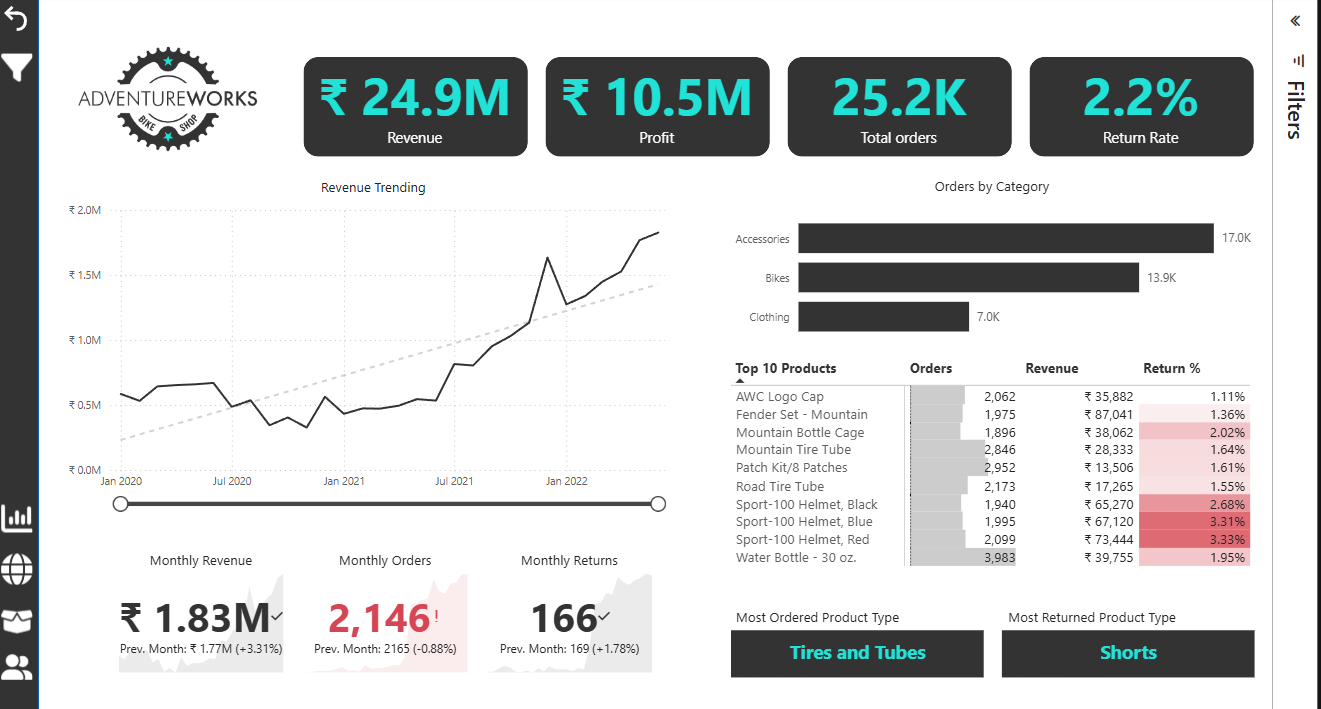

This screenshot's page, from the dashboard's own definition file:
{"tool":"powerbi","page":{"name":"Exec Dashboard","canvas":[1280,720],"ordinal":0},"visuals":[{"type":"image","title":"AW logo","box":[53.8,43.8,241.2,120],"z":0},{"type":"group","id":"g1","title":"Revenue","box":[305,59.4,233.8,102.5],"z":0,"group":"g3"},{"type":"shape","box":[310,61.9,225,100],"z":0,"group":"g1"},{"type":"shape","box":[552.5,61.9,225,100],"z":0,"group":"g5"},{"type":"shape","box":[795,61.9,225,100],"z":0,"group":"g4"},{"type":"shape","box":[1037.5,61.9,225,100],"z":0,"group":"g2"},{"type":"actionButton","box":[2.1,652.7,45.2,39.9],"z":0,"group":"g6"},{"type":"shape","title":"Nav Bcakground","box":[0,0,45,720],"z":1000},{"type":"card","fields":{"Values":["Measure Table.Total Revenue"]},"box":[305,59.4,233.8,98.8],"z":1000,"group":"g1"},{"type":"card","fields":{"Values":["Measure Table.Total Profit"]},"box":[547.5,59.4,233.8,98.8],"z":1000,"group":"g5"},{"type":"card","fields":{"Values":["Measure Table.Total orders"]},"box":[790,59.4,233.8,98.8],"z":1000,"group":"g4"},{"type":"group","id":"g2","title":"Return rate","box":[1032.5,59.4,233.8,102.5],"z":1000,"group":"g3"},{"type":"card","fields":{"Values":["Measure Table.Return Rate"]},"box":[1032.5,59.4,233.8,98.8],"z":1000,"group":"g2"},{"type":"actionButton","box":[2.1,607.5,45.2,39.9],"z":1000,"group":"g6"},{"type":"group","id":"g3","title":"Cards","box":[305,59.4,961.2,102.5],"z":2000},{"type":"group","id":"g4","title":"Total orders","box":[790,59.4,233.8,102.5],"z":2000,"group":"g3"},{"type":"actionButton","box":[2.1,556,45.2,39.9],"z":2000,"group":"g6"},{"type":"group","id":"g5","title":"Total Profit","box":[547.5,59.4,233.8,102.5],"z":3000,"group":"g3"},{"type":"lineChart","title":"Revenue Trending","fields":{"Y":["Measure Table.Total Revenue"],"Category":["Calendar Lookup.Year","Calendar Lookup.Start of Quarter.Variation.Date Hierarchy.Quarter","Calendar Lookup.Start of Month"]},"box":[68.8,182.5,622.5,337.5],"z":3000},{"type":"actionButton","box":[2.1,504.5,45.2,39.9],"z":3000,"group":"g6"},{"type":"kpi","title":"Monthly Revenue","fields":{"Indicator":["Measure Table.Total Revenue"],"TrendLine":["Calendar Lookup.Start of Month"],"Goal":["Measure Table.Previous Month Revenue"]},"box":[119.5,556.4,175,127.5],"z":4000},{"type":"kpi","title":"Monthly Orders","fields":{"TrendLine":["Calendar Lookup.Start of Month"],"Goal":["Measure Table.Previous Month Orders"],"Indicator":["Measure Table.Total orders"]},"box":[304.5,556.4,175,127.5],"z":5000},{"type":"kpi","title":"Monthly Returns","fields":{"TrendLine":["Calendar Lookup.Start of Month"],"Indicator":["Measure Table.Total returns"],"Goal":["Measure Table.Previous Month Returns"]},"box":[489.5,556.4,175,127.5],"z":6000},{"type":"clusteredBarChart","title":"Orders by Category","fields":{"Category":["Product Categories Lookup.CategoryName"],"Y":["Measure Table.Total orders"]},"box":[732.5,182.2,533.7,177.5],"z":7000},{"type":"pivotTable","fields":{"Rows":["Product Lookup.ProductName"],"Values":["Measure Table.Total orders","Measure Table.Total Revenue","Measure Table.Return Rate"]},"box":[732.5,359.8,533.7,229.6],"z":8000},{"type":"card","fields":{"Values":["Min(Product Subcategories Lookup.SubcategoryName)"]},"box":[738.5,636.7,253.3,47.3],"z":9000},{"type":"textbox","box":[738.5,608.3,184.6,29.6],"z":10000},{"type":"textbox","box":[1010.7,608.3,184.6,29.6],"z":11000},{"type":"card","fields":{"Values":["Min(Product Subcategories Lookup.SubcategoryName)"]},"box":[1009.5,636.7,253.3,47.3],"z":12000},{"type":"actionButton","box":[4.2,5.3,35.7,34.7],"z":13000},{"type":"group","id":"g6","title":"Navigation buttons","box":[2.1,504.5,45.2,188.1],"z":14000},{"type":"actionButton","box":[3.2,52.6,45.2,39.9],"z":15000}]}

Visuals, with their boxes on the page's 1280x720 design canvas (x1, y1, x2, y2). These are canvas units, not pixel positions in the 1321x709 screenshot, which may show the page scaled, cropped or inside an application window:
"AW logo" image: rect(54, 44, 295, 164)
"Revenue" group: rect(305, 59, 539, 162)
shape: rect(310, 62, 535, 162)
shape: rect(552, 62, 778, 162)
shape: rect(795, 62, 1020, 162)
shape: rect(1038, 62, 1262, 162)
actionButton: rect(2, 653, 47, 693)
"Nav Bcakground" shape: rect(0, 0, 45, 720)
card - Measure Table.Total Revenue: rect(305, 59, 539, 158)
card - Measure Table.Total Profit: rect(548, 59, 781, 158)
card - Measure Table.Total orders: rect(790, 59, 1024, 158)
"Return rate" group: rect(1032, 59, 1266, 162)
card - Measure Table.Return Rate: rect(1032, 59, 1266, 158)
actionButton: rect(2, 608, 47, 647)
"Cards" group: rect(305, 59, 1266, 162)
"Total orders" group: rect(790, 59, 1024, 162)
actionButton: rect(2, 556, 47, 596)
"Total Profit" group: rect(548, 59, 781, 162)
"Revenue Trending" lineChart: rect(69, 182, 691, 520)
actionButton: rect(2, 504, 47, 544)
"Monthly Revenue" kpi: rect(120, 556, 294, 684)
"Monthly Orders" kpi: rect(304, 556, 480, 684)
"Monthly Returns" kpi: rect(490, 556, 664, 684)
"Orders by Category" clusteredBarChart: rect(732, 182, 1266, 360)
pivotTable - Product Lookup.ProductName x Measure Table.Total orders: rect(732, 360, 1266, 589)
card - Min(Product Subcategories Lookup.SubcategoryName): rect(738, 637, 992, 684)
textbox: rect(738, 608, 923, 638)
textbox: rect(1011, 608, 1195, 638)
card - Min(Product Subcategories Lookup.SubcategoryName): rect(1010, 637, 1263, 684)
actionButton: rect(4, 5, 40, 40)
"Navigation buttons" group: rect(2, 504, 47, 693)
actionButton: rect(3, 53, 48, 92)
